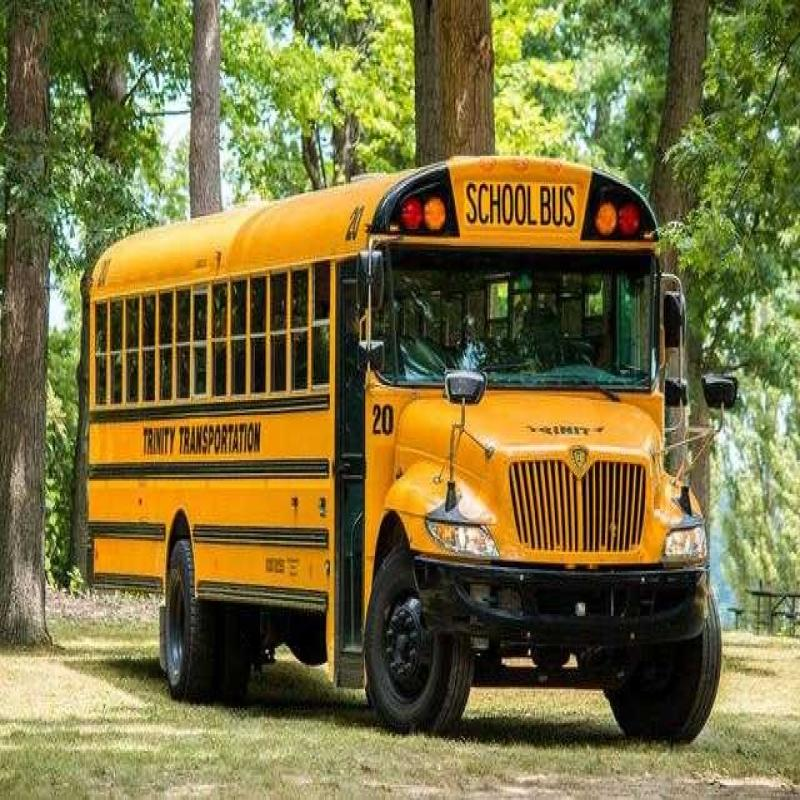bus: (86, 154, 800, 791)
